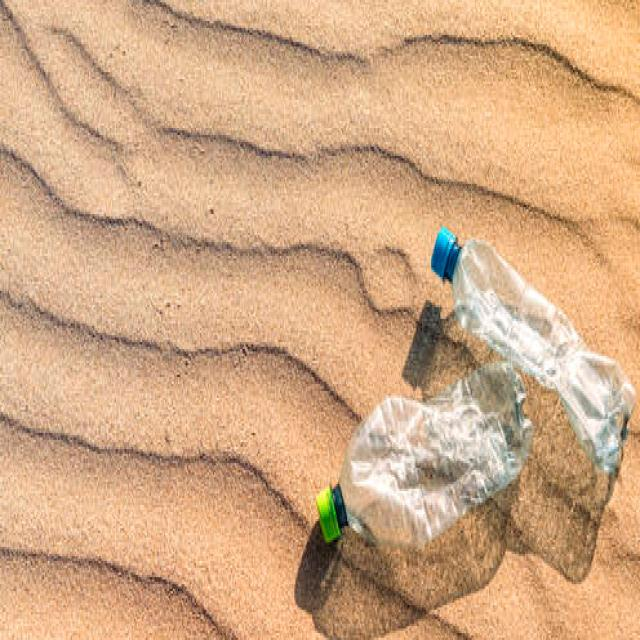Plastic Bottle: (432, 222, 638, 473), (314, 360, 536, 555)
